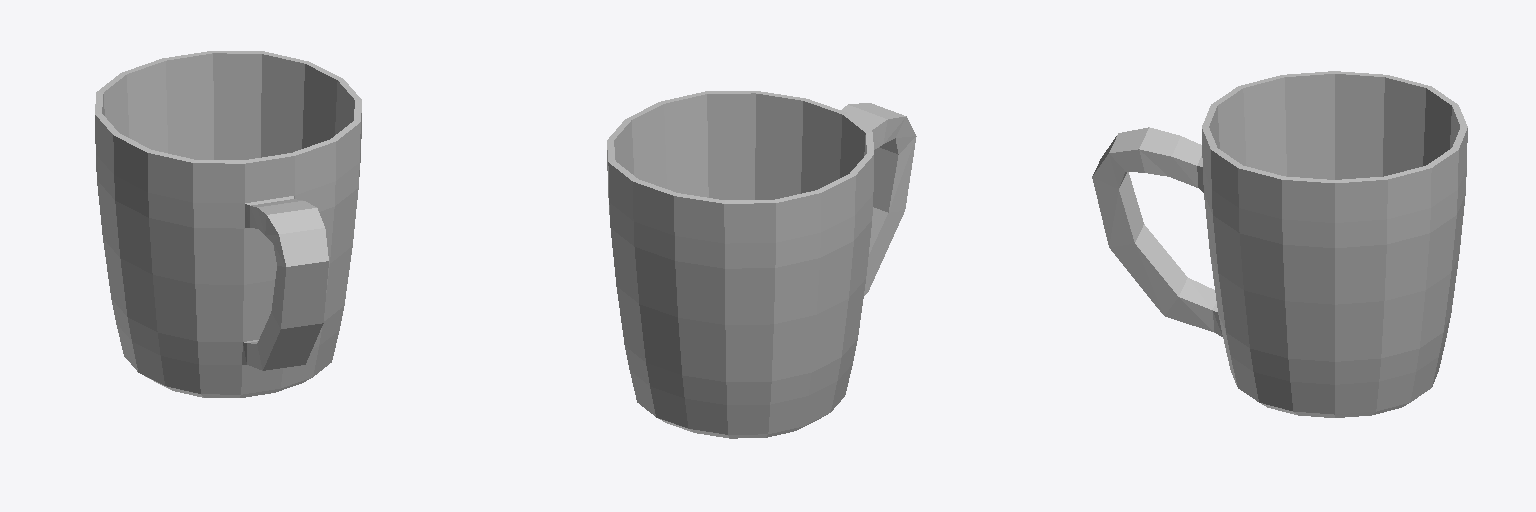
Rendered from mug.obj.
3 views of the same model, side by side, from view 1: azimuth 30°, elevation 25°; view 2: azimuth 150°, elevation 25°; view 3: azimuth 270°, elevation 25° (orthographic).
Visible parts, largest first — view 1: Cube; view 2: Cube; view 3: Cube.
Part boxes in pixels (x1,y1,x2,y2): Cube: (95, 51, 361, 397); Cube: (607, 91, 916, 438); Cube: (1092, 71, 1467, 417).
Size of the model in its own units: 1.83 by 1.96 by 2.58.